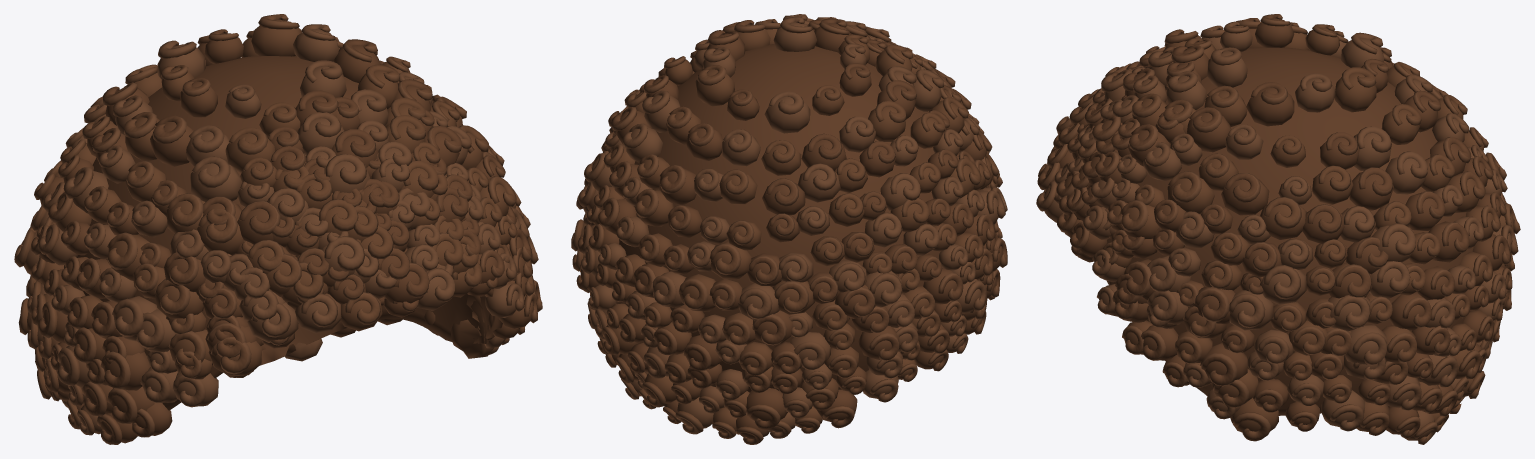
Rendered from corte-feminino-07.glb.
The picture shows the model from 3 angles, left to right: view 1: azimuth 30°, elevation 25°; view 2: azimuth 150°, elevation 25°; view 3: azimuth 270°, elevation 25°; orthographic projection. The views are drawn at different scales.
Visible parts, largest first — view 1: RCL_Corte_Feminino_07; view 2: RCL_Corte_Feminino_07; view 3: RCL_Corte_Feminino_07.
Boxes of the visible parts, <box> form: RCL_Corte_Feminino_07: <box>14,14,542,444</box>; RCL_Corte_Feminino_07: <box>571,14,1007,444</box>; RCL_Corte_Feminino_07: <box>1036,14,1520,444</box>.
Bounding box in the file's own units: 0.2439 × 0.2099 × 0.2522.
